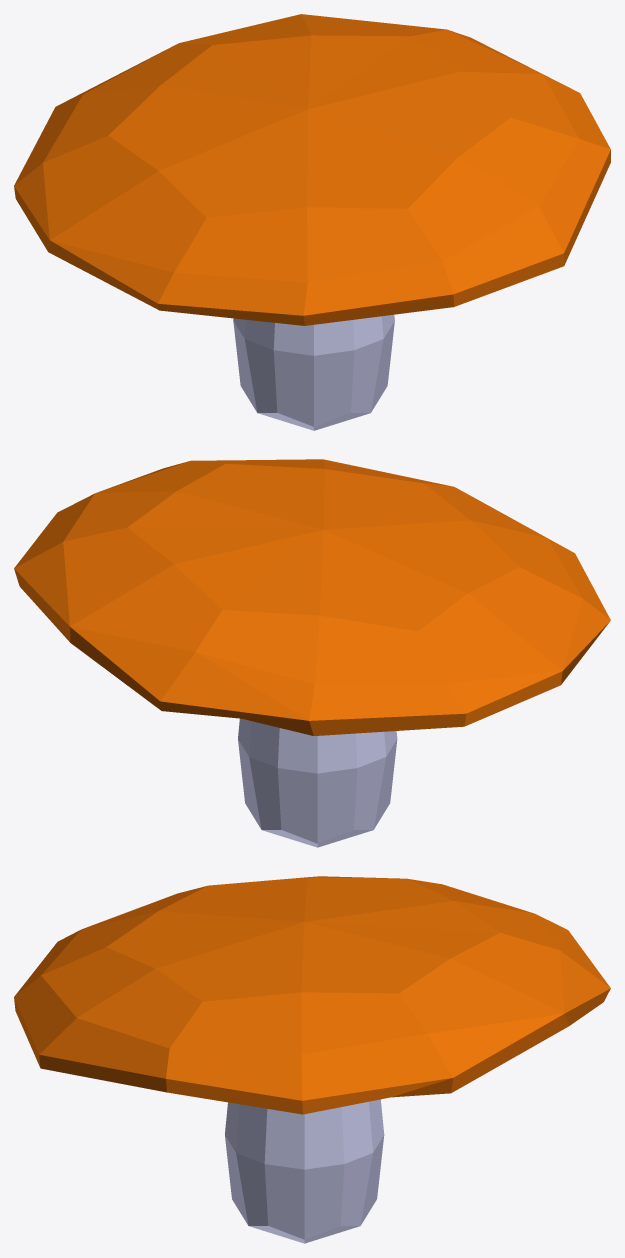
File: Grzyb2v1.fbx
3 views of the same model, one above another, from view 1: azimuth 30°, elevation 25°; view 2: azimuth 150°, elevation 25°; view 3: azimuth 270°, elevation 25° (orthographic).
Parts seen in each view (by area): view 1: Walec.001, Walec; view 2: Walec.001, Walec; view 3: Walec.001, Walec.
Boxes of the visible parts, bbox=[...] form: Walec.001: bbox=[14, 14, 610, 325]; Walec: bbox=[233, 314, 394, 430]; Walec.001: bbox=[14, 459, 610, 735]; Walec: bbox=[238, 718, 397, 847]; Walec.001: bbox=[14, 876, 610, 1114]; Walec: bbox=[225, 1099, 384, 1243].
Bounding box in the file's own units: 304 × 181 × 305.
